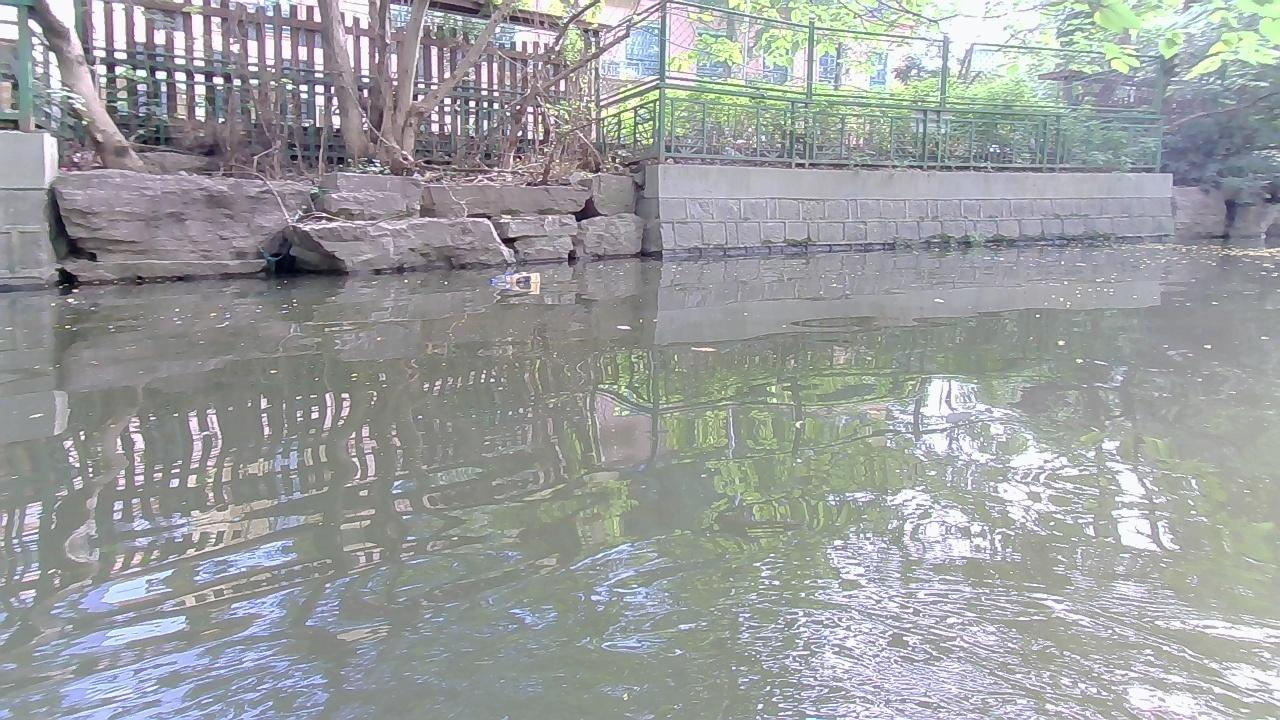bottle: (486, 272, 528, 287), (506, 272, 542, 285)
